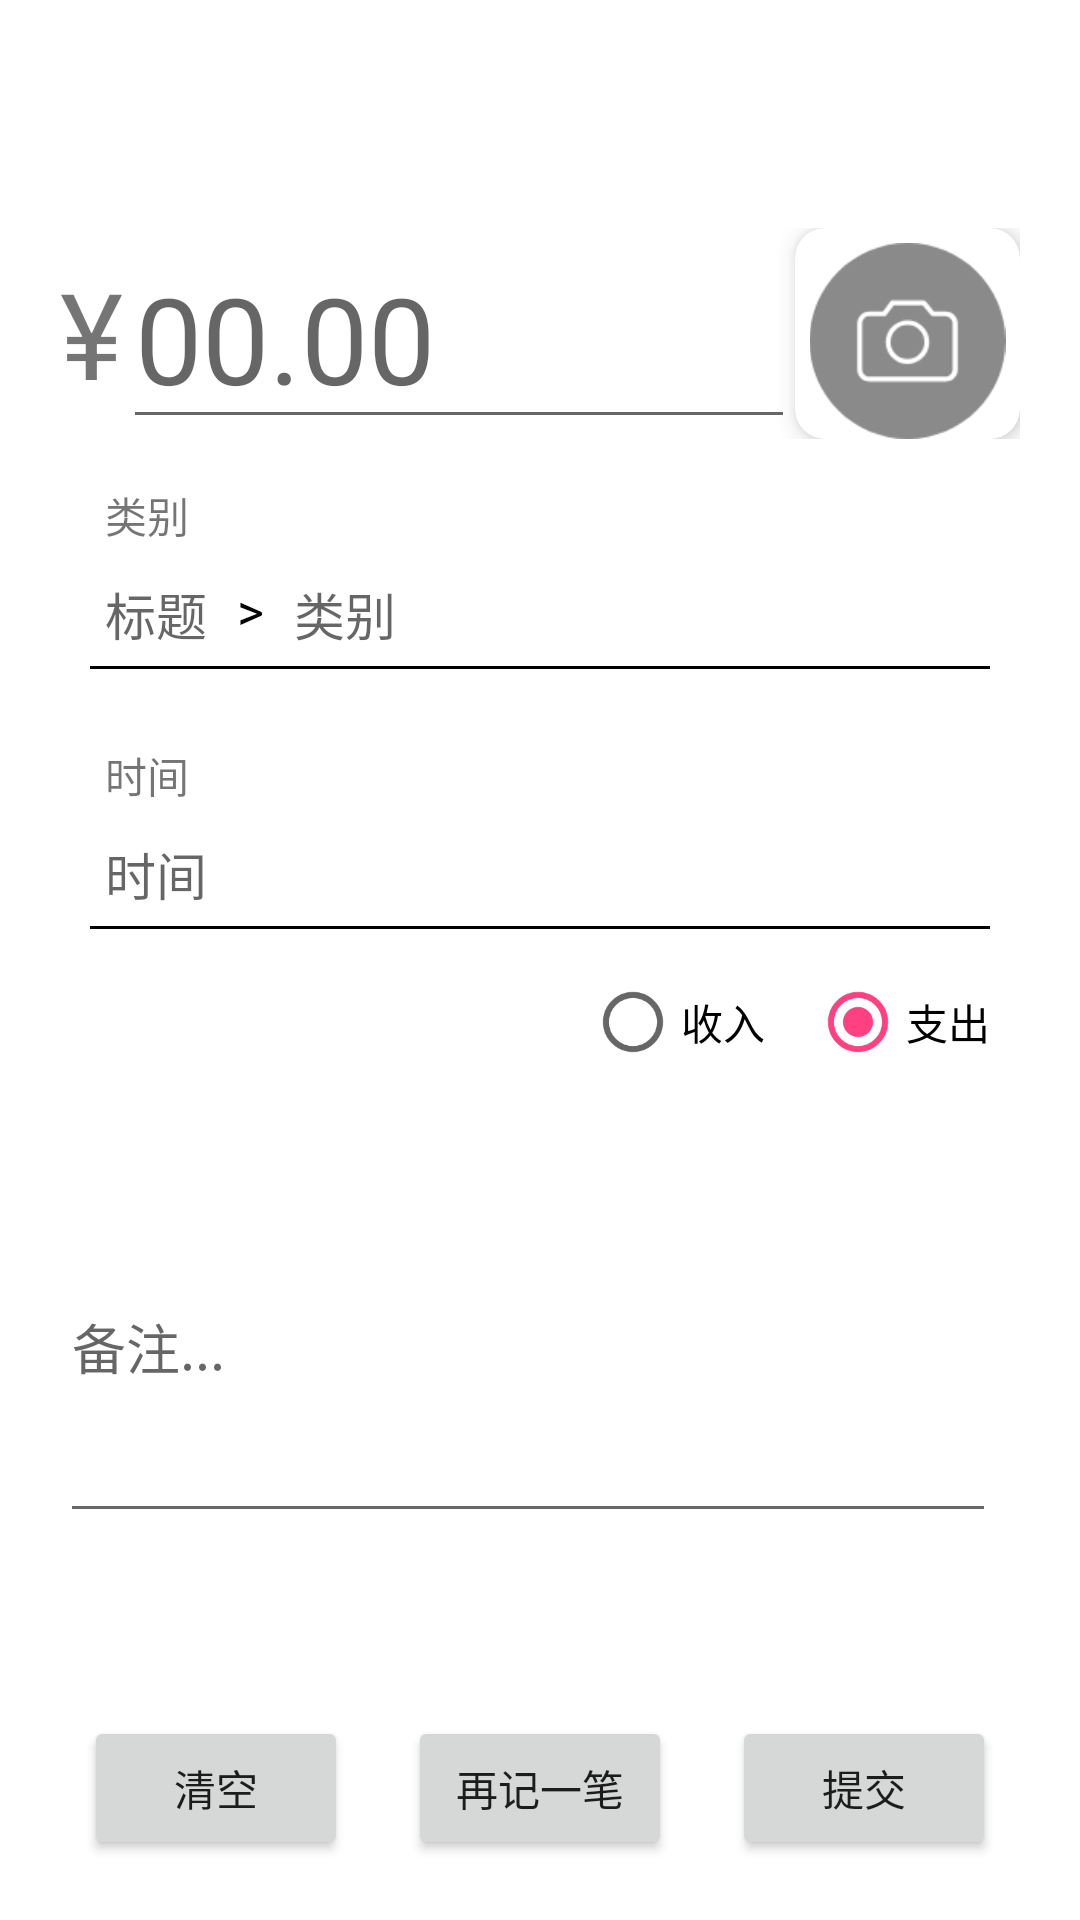

Where icons sit on this 1080x1920 app screen, as (x1, y1, x2, y2):
takephoto: (802, 243, 1020, 439)
